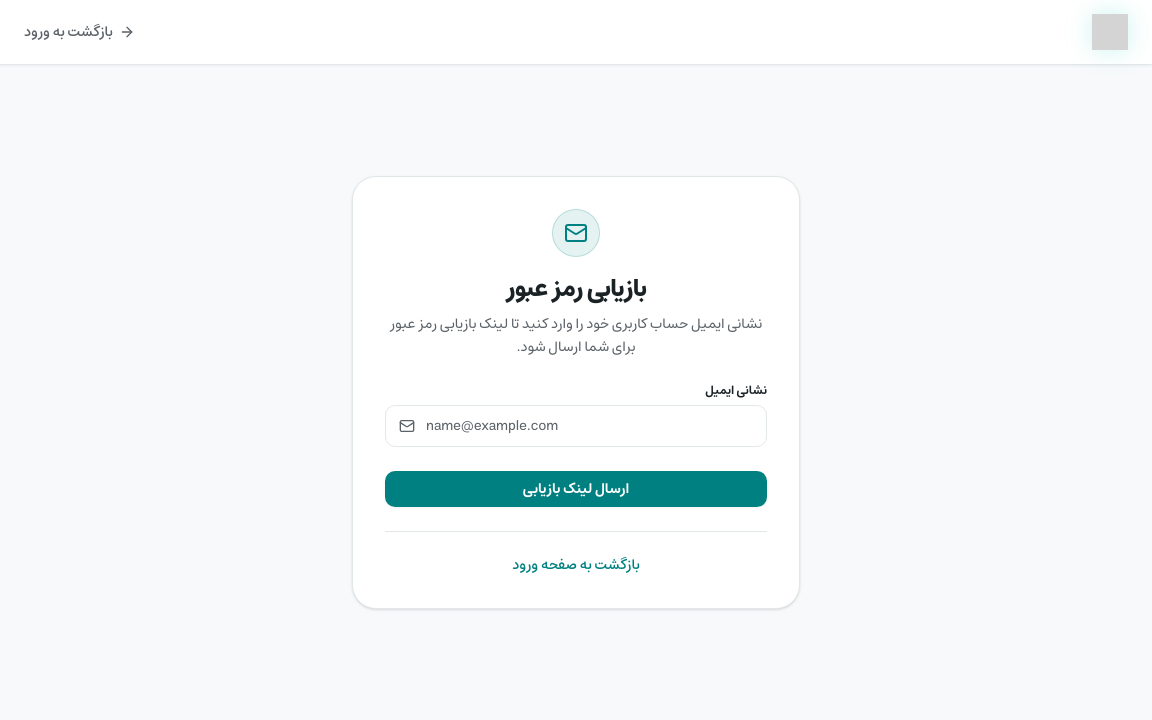
Scenario: Auth UI - Forgot Password & Reset Password Flow › ForgotPasswordPage › displays validation error when submitting empty or invalid email
Expected: the field with id "forgot-email" is shown, [385,405,767,447]
# Submit empty
Step 1. Submit the form, box [385,383,767,507]
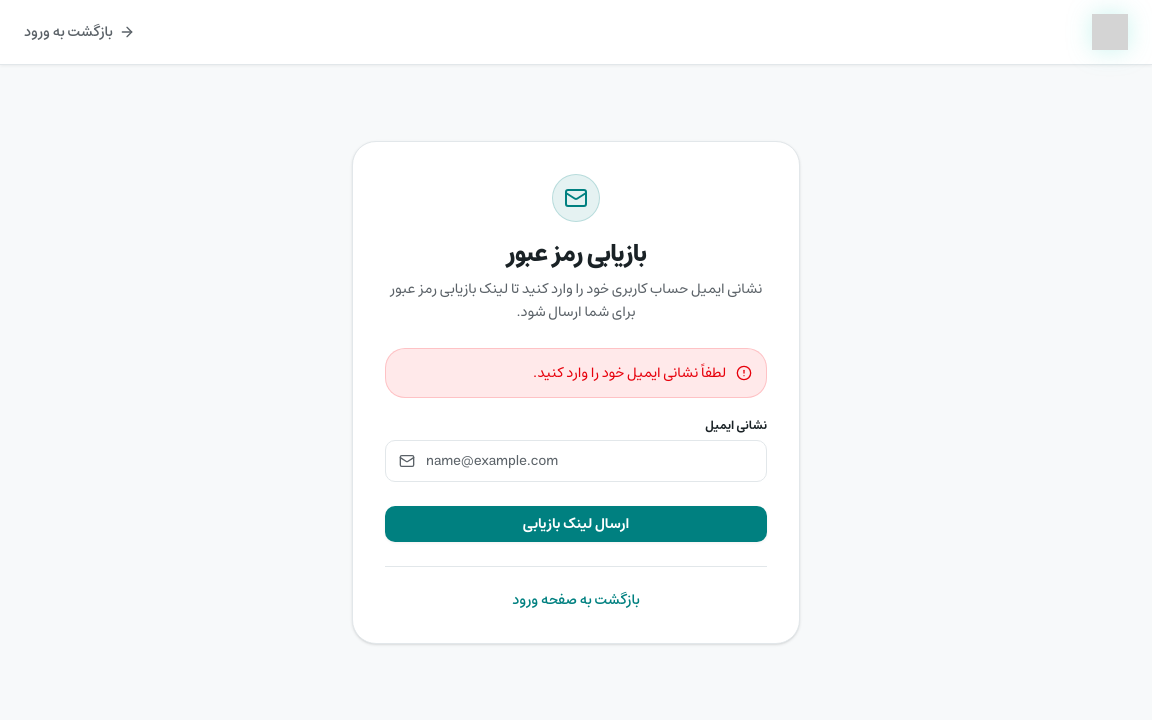
Now the text "لطفاً نشانی ایمیل خود را وارد کنید." is shown, box [533,363,726,383]
# Enter invalid email format
Step 2. Type "invalid-email" into the field with id "forgot-email" → [576, 461], box [385,440,767,482]
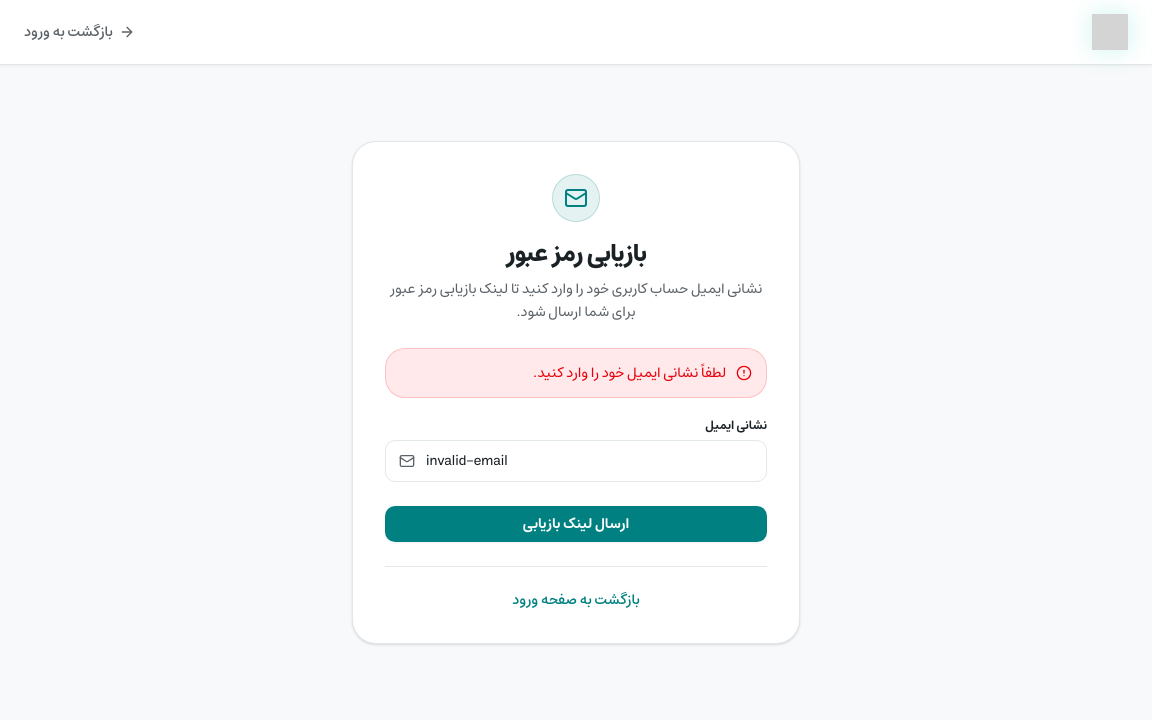
Step 3. Submit the form, box [385,418,767,542]
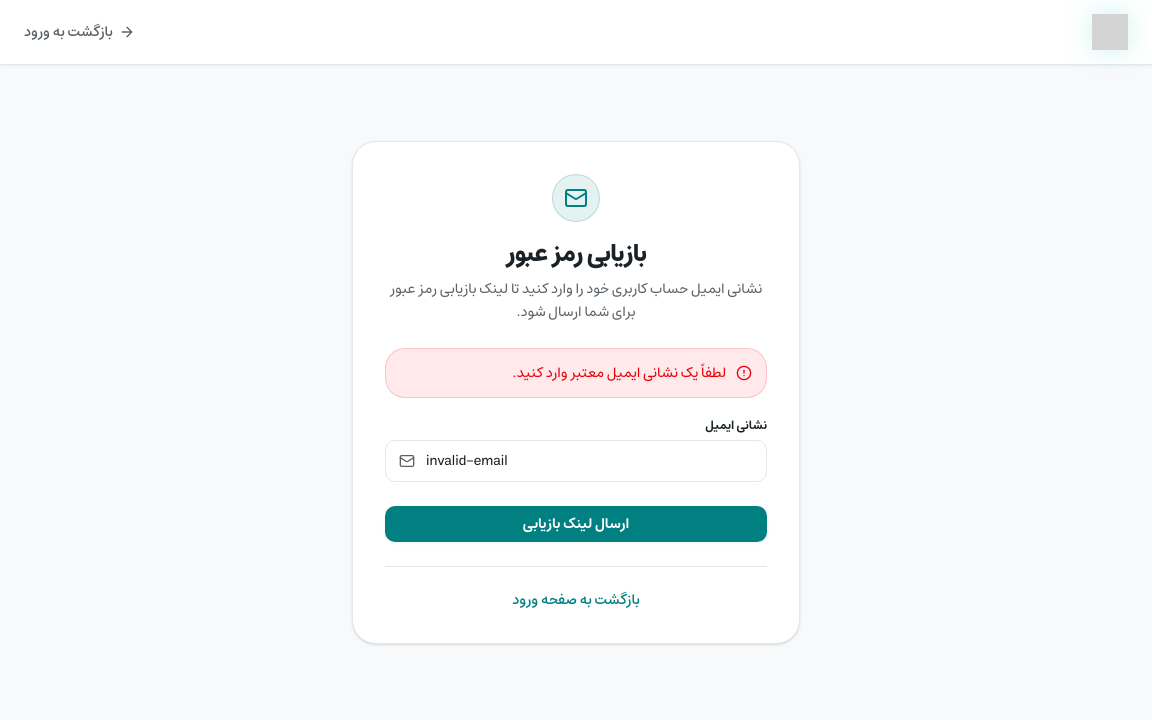
Now the text "لطفاً یک نشانی ایمیل معتبر وارد کنید." is shown, box [513,363,726,383]
